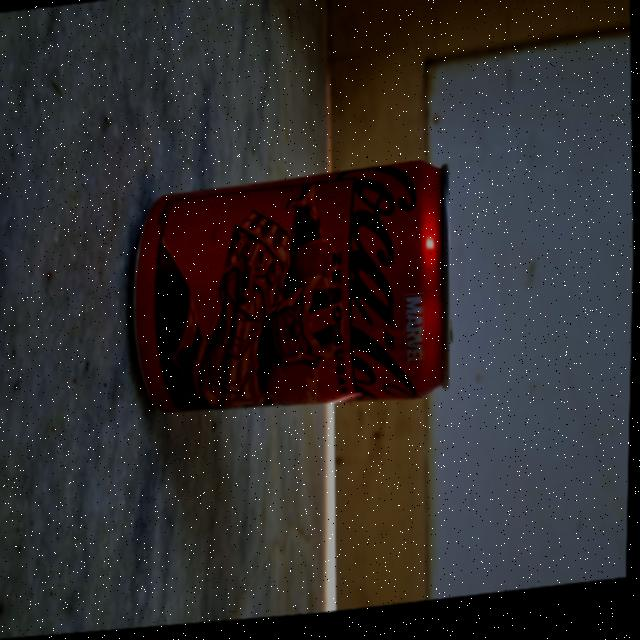Coca Cola Zero: (116, 153, 461, 450)
